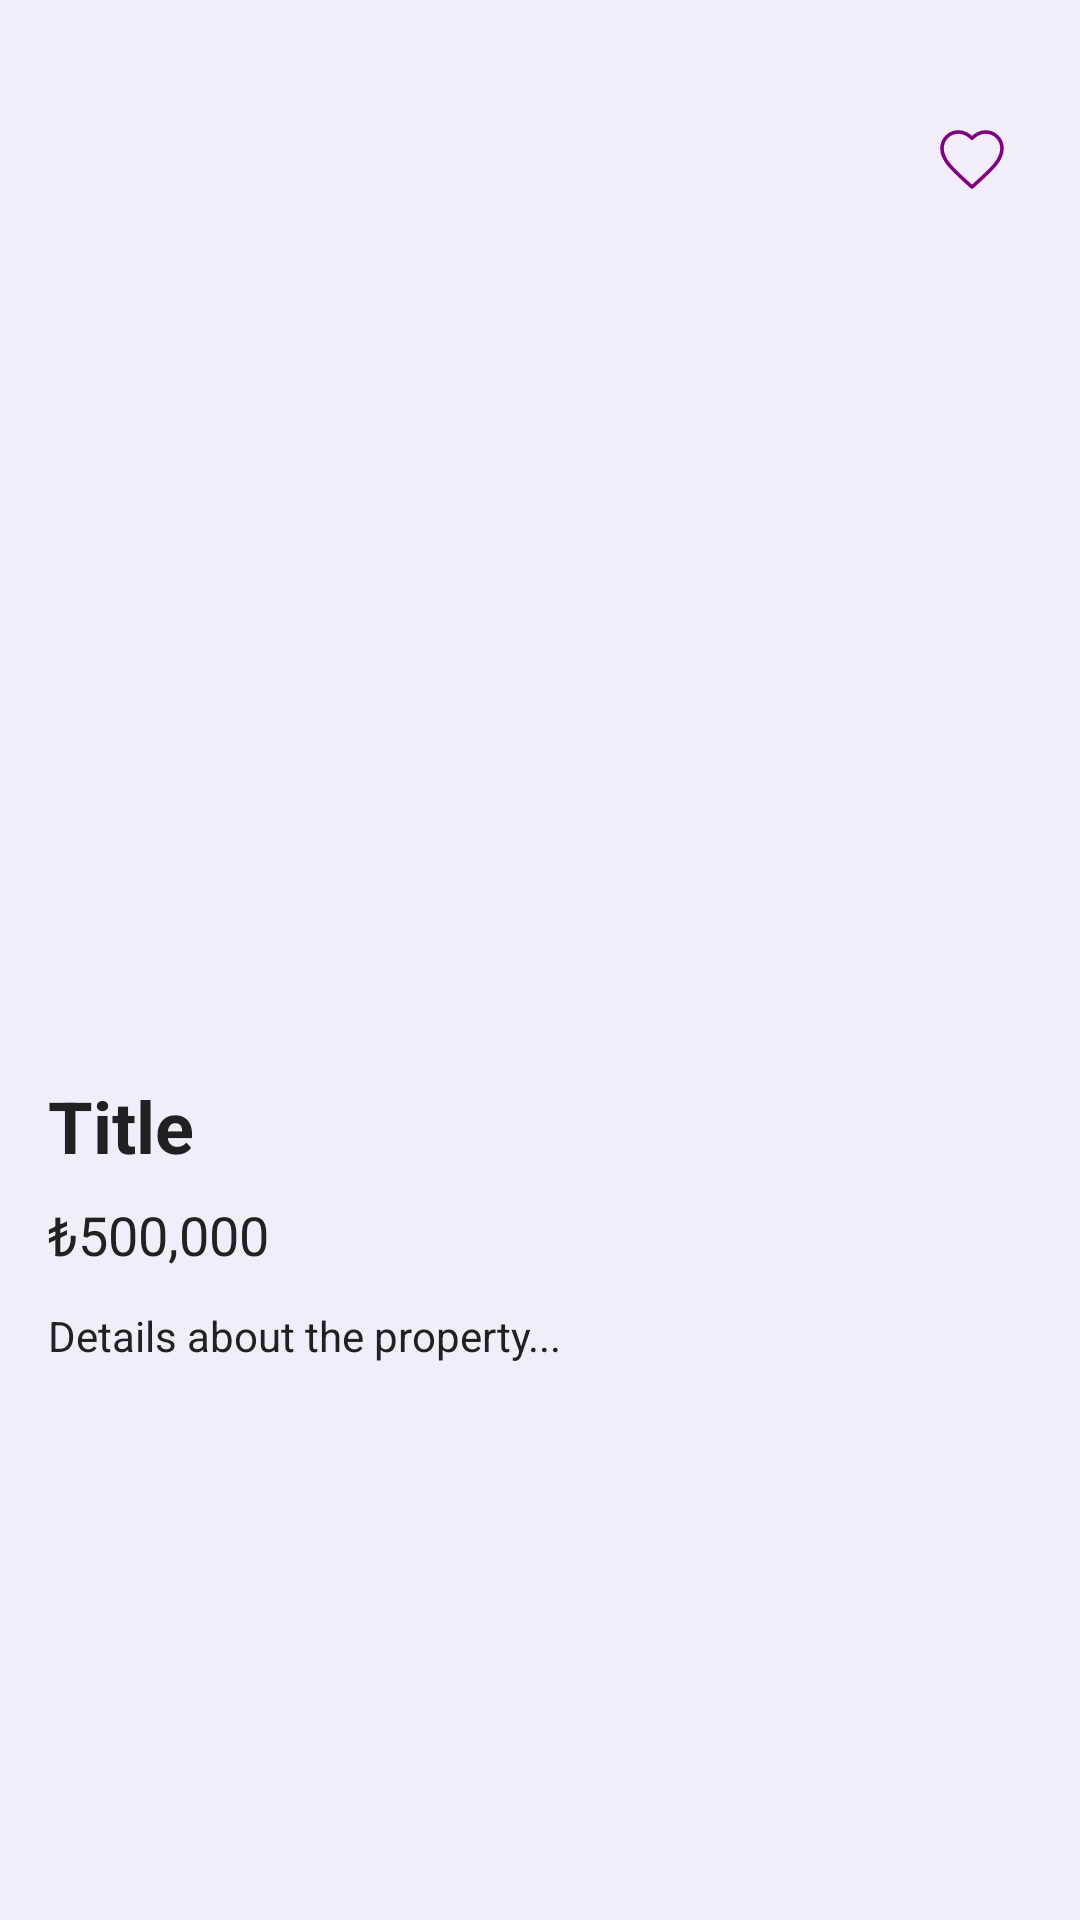

Point at icon controls on the screen. Image size 1080w x 1920h, points as (x,y).
Favorite: (972,159)
